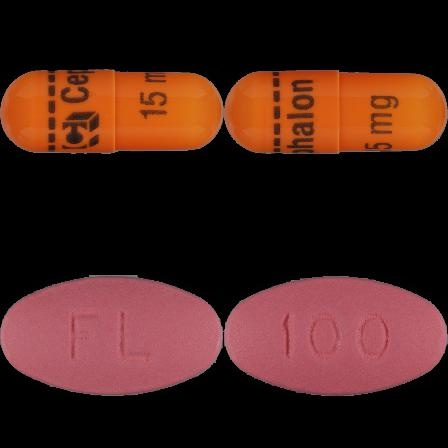54868-6022: (0, 0, 224, 224)
